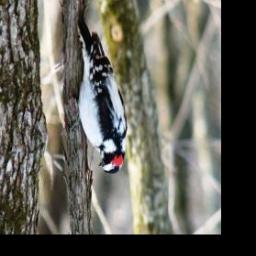Woodpecker: (70, 7, 130, 174)
